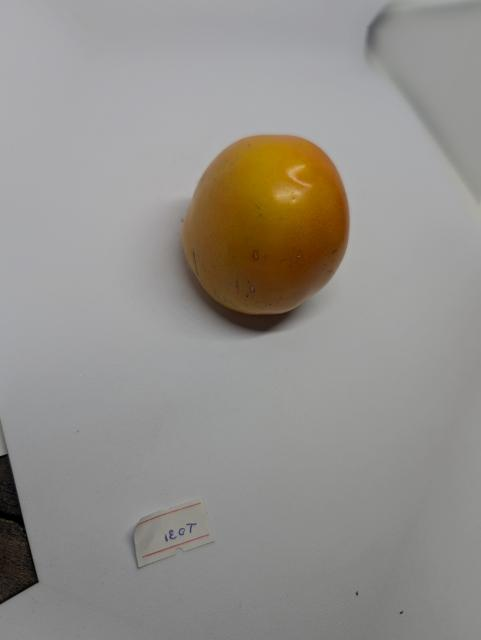turning: (174, 124, 364, 340)
